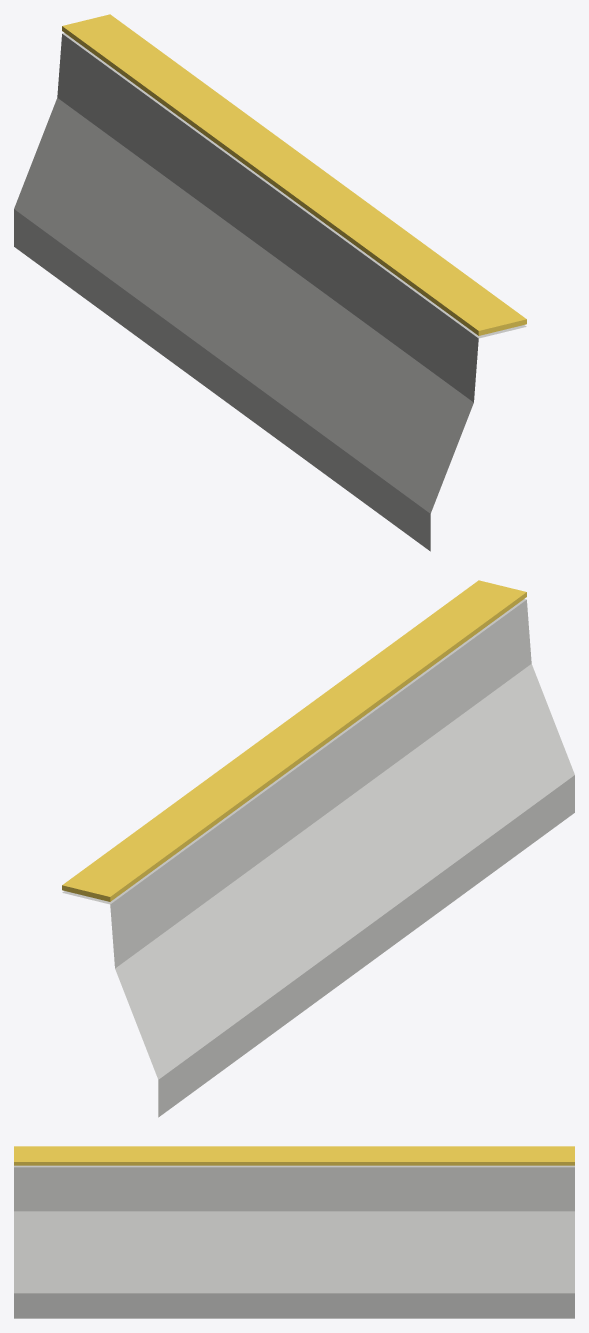
The model's file is jersey_barrier.glb.
3 views of the same model, one above another, from view 1: azimuth 30°, elevation 25°; view 2: azimuth 150°, elevation 25°; view 3: azimuth 270°, elevation 25° (orthographic). The views are drawn at different scales.
Parts seen in each view (by area): view 1: jersey_barrier; view 2: jersey_barrier; view 3: jersey_barrier.
Boxes of the visible parts, box(x1,y1,x2,y2) form: jersey_barrier: box(14, 14, 526, 551); jersey_barrier: box(62, 580, 574, 1117); jersey_barrier: box(14, 1146, 574, 1318).
Bounding box in the file's own units: 0.6 × 0.83 × 3.
